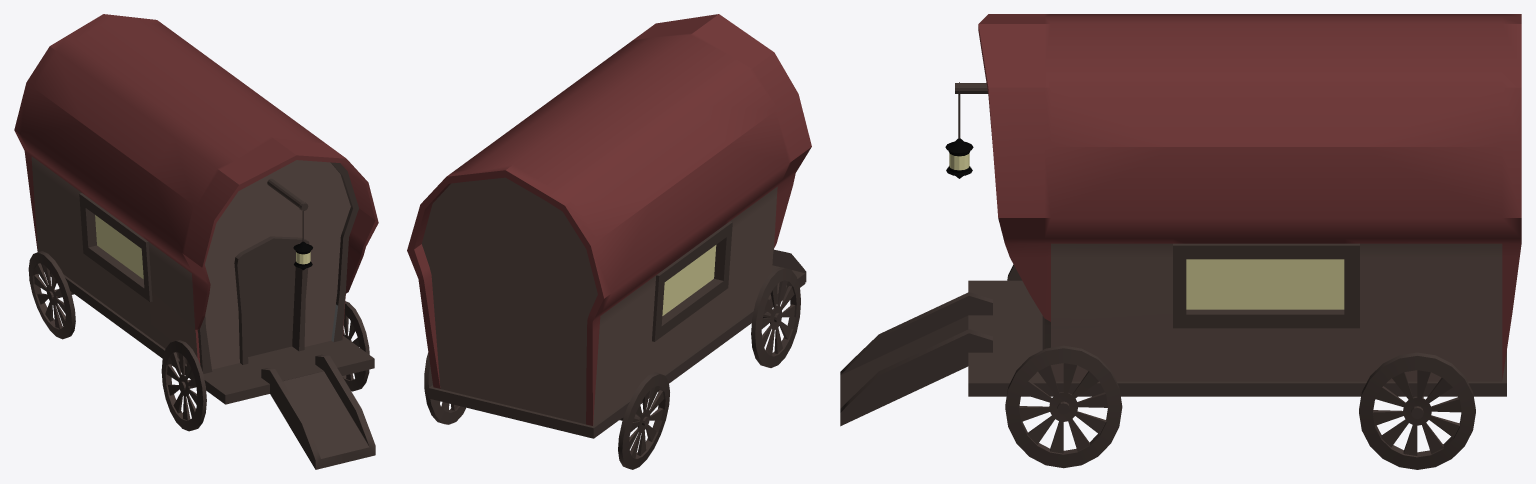
The model's file is shop.fbx.
The picture shows the model from 3 angles, left to right: view 1: azimuth 30°, elevation 25°; view 2: azimuth 150°, elevation 25°; view 3: azimuth 270°, elevation 25°; orthographic projection. The views are drawn at different scales.
Parts seen in each view (by area): view 1: wagon, ramp, frontWheels, backWheels, lantern; view 2: wagon, backWheels, frontWheels, ramp; view 3: wagon, ramp, frontWheels, backWheels, lantern.
Part boxes in pixels (bbox=[...]): wagon: bbox=[14, 14, 378, 404]; ramp: bbox=[261, 354, 375, 469]; frontWheels: bbox=[161, 301, 369, 431]; backWheels: bbox=[28, 251, 75, 339]; lantern: bbox=[267, 178, 312, 270]; wagon: bbox=[407, 14, 811, 438]; backWheels: bbox=[424, 353, 669, 469]; frontWheels: bbox=[751, 267, 800, 367]; ramp: bbox=[772, 249, 806, 282]; wagon: bbox=[968, 14, 1521, 396]; ramp: bbox=[840, 292, 992, 426]; frontWheels: bbox=[1005, 264, 1122, 468]; backWheels: bbox=[1359, 352, 1475, 469]; lantern: bbox=[945, 82, 987, 178].
Bounding box in the file's own units: 7.74 × 10.71 × 17.09.
